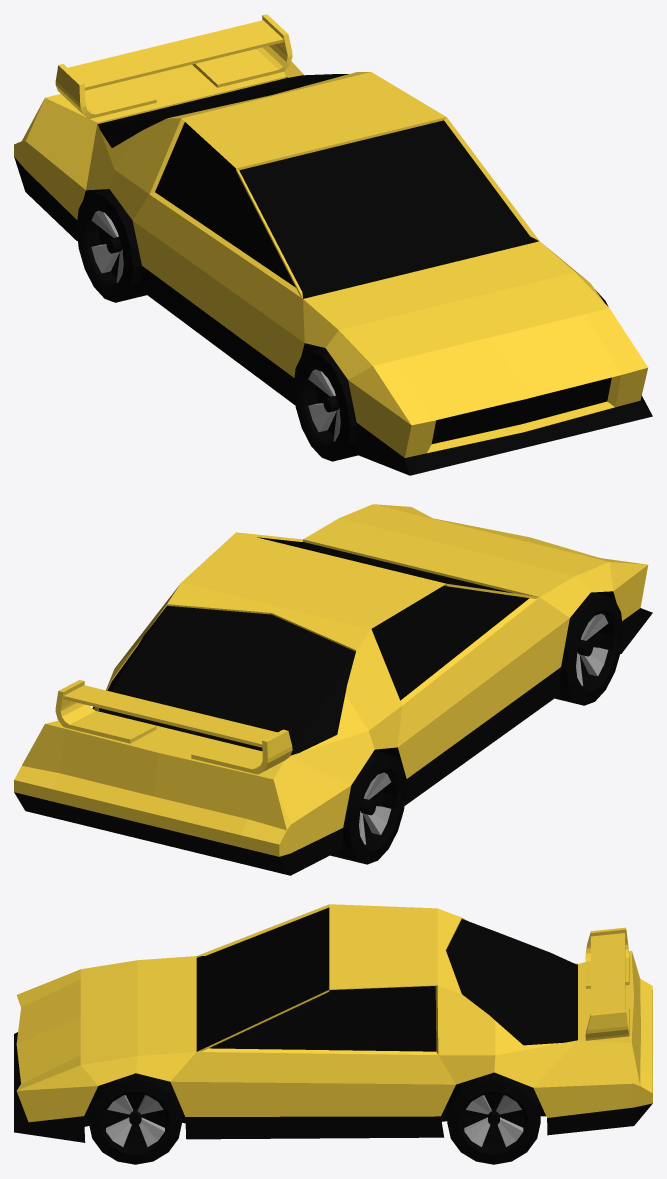
File: carexport.fbx
3 views of the same model, one above another, from view 1: azimuth 30°, elevation 25°; view 2: azimuth 150°, elevation 25°; view 3: azimuth 270°, elevation 25° (orthographic). The views are drawn at different scales.
Visible parts, largest first — view 1: body, wheelRearRight, wheelFrontRight; view 2: body, wheelRearRight, wheelFrontRight; view 3: body, wheelRearLeft, wheelFrontLeft.
Boxes of the visible parts, bbox=[...] form: body: bbox=[14, 14, 652, 475]; wheelRearRight: bbox=[76, 189, 146, 302]; wheelFrontRight: bbox=[293, 348, 357, 461]; body: bbox=[14, 504, 652, 875]; wheelRearRight: bbox=[330, 751, 405, 864]; wheelFrontRight: bbox=[555, 592, 623, 705]; body: bbox=[14, 904, 652, 1142]; wheelRearLeft: bbox=[447, 1072, 540, 1164]; wheelFrontLeft: bbox=[88, 1073, 182, 1164].
Size of the model in its own units: 227 by 153 by 546.
